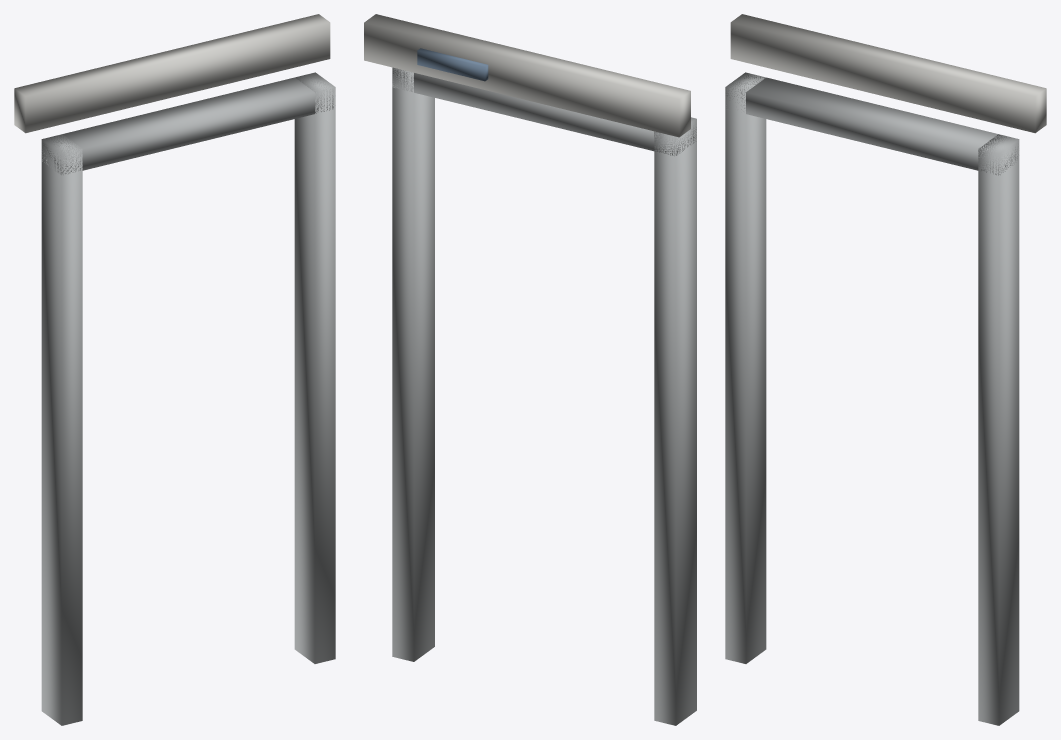
Rendered from doorway_hospital_w106_h240_d16.glb.
3 views of the same model, side by side, from view 1: azimuth 30°, elevation 25°; view 2: azimuth 150°, elevation 25°; view 3: azimuth 330°, elevation 25° (orthographic). The views are drawn at different scales.
Visible parts, largest first — view 1: world; view 2: world; view 3: world.
Part boxes in pixels (x1=…): world: x1=14, y1=14, x2=335, y2=725; world: x1=364, y1=14, x2=696, y2=725; world: x1=725, y1=14, x2=1046, y2=725.
Size of the model in its own units: 1.39 by 2.7 by 0.28.
